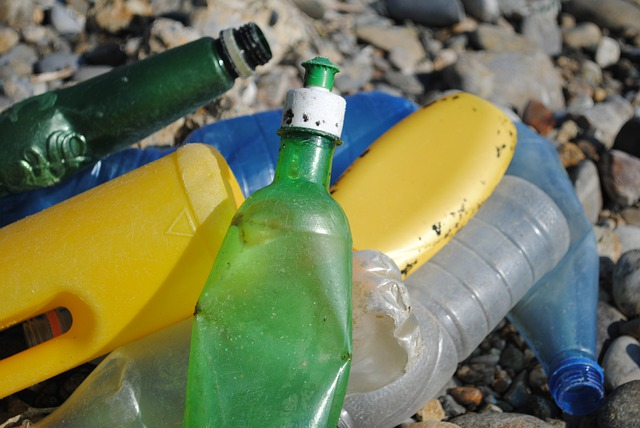plastic_bottle: (176, 54, 364, 427), (510, 88, 610, 415)
